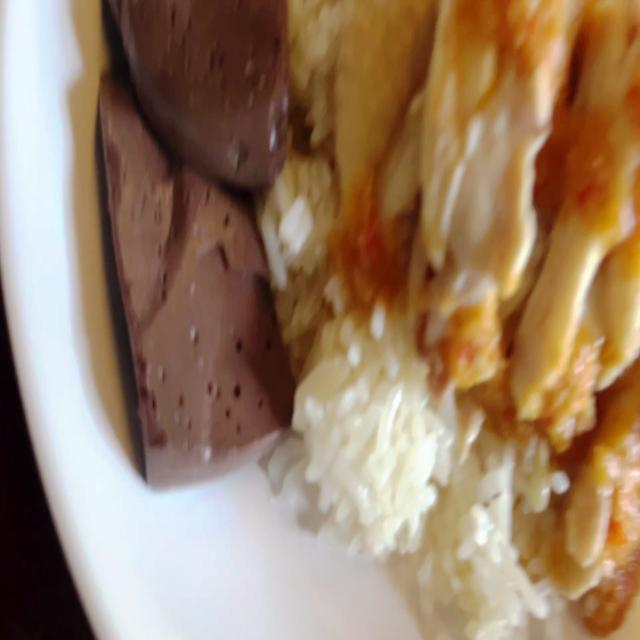boiled_chicken: (297, 0, 640, 525)
boiled_chicken_blood_jelly: (95, 88, 276, 472), (104, 0, 290, 194)
chicken_rice: (86, 0, 640, 640)
